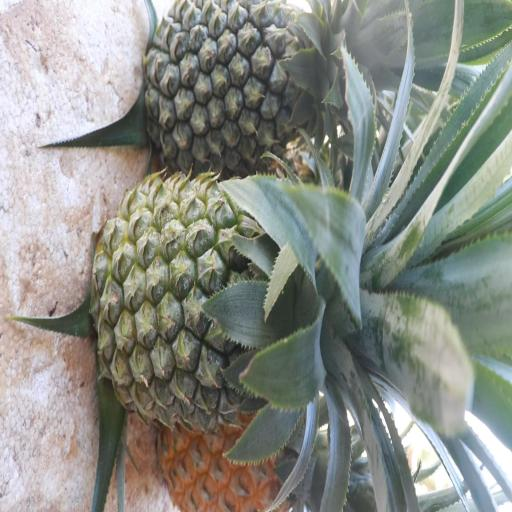------------------------------: (97, 179, 336, 424)
Pineapple - v8 v1: (163, 406, 327, 512)
